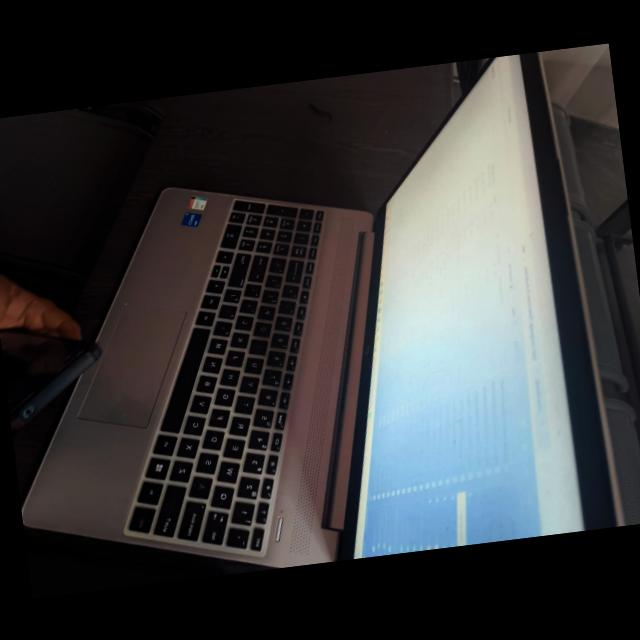laptop: (15, 48, 628, 584)
